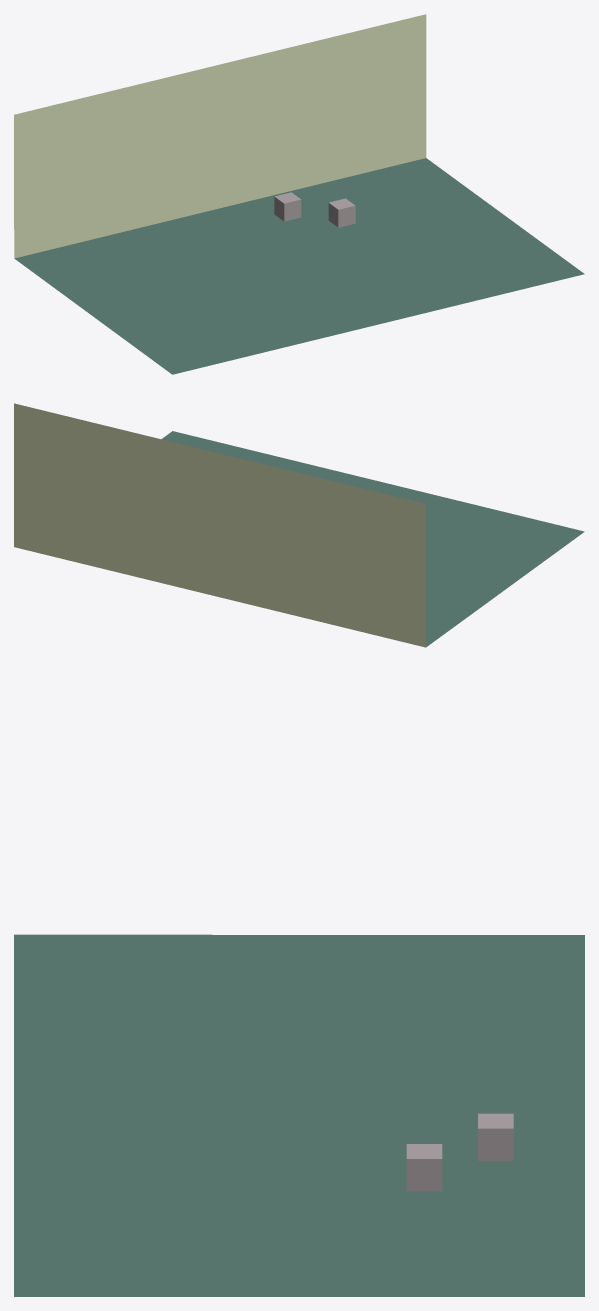
The model's file is Mapa test.fbx.
3 views of the same model, one above another, from view 1: azimuth 30°, elevation 25°; view 2: azimuth 150°, elevation 25°; view 3: azimuth 270°, elevation 25° (orthographic). The views are drawn at different scales.
Visible parts, largest first — view 1: Cube; view 2: Cube; view 3: Cube.
Part boxes in pixels (left/top/right/bottom): Cube: left=14, top=14, right=584, bottom=374; Cube: left=14, top=403, right=584, bottom=647; Cube: left=14, top=934, right=584, bottom=1296.
Bounding box in the file's own units: 2401 × 800 × 1600.
